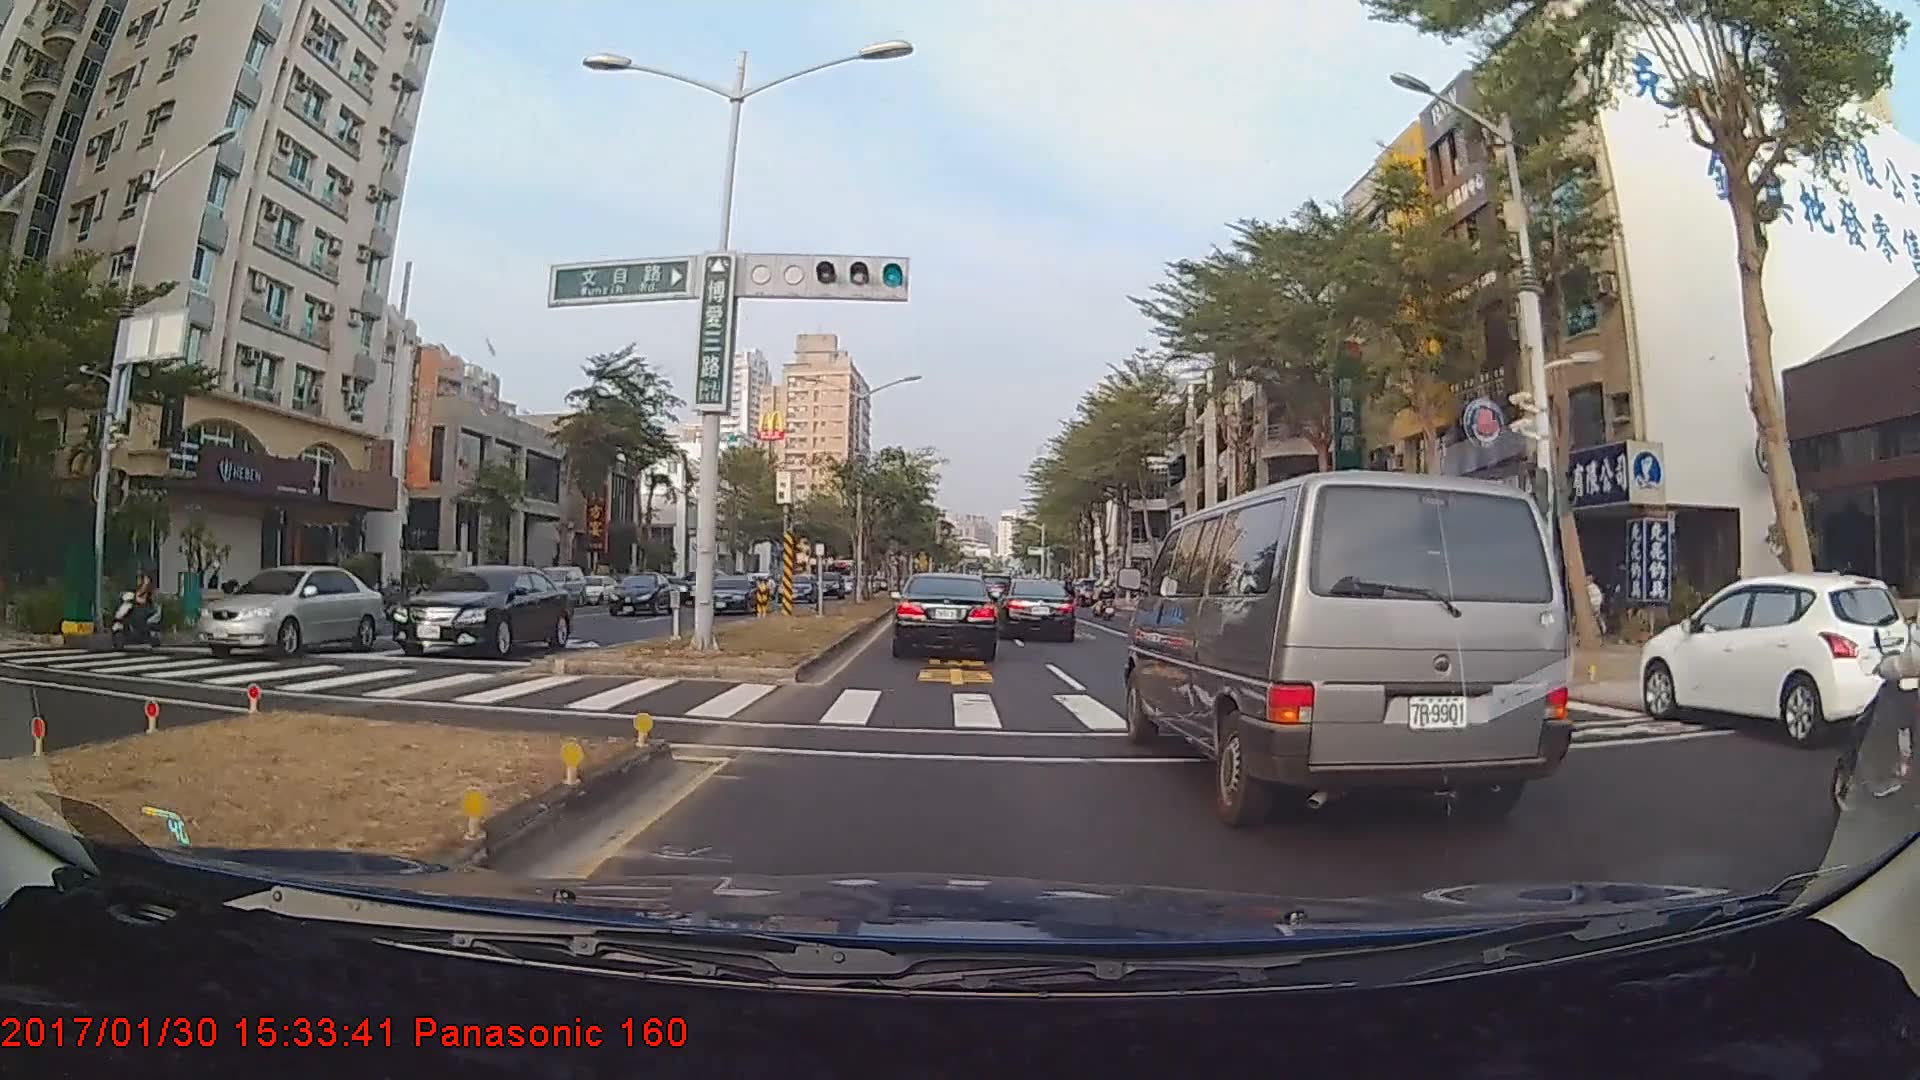rider: (1818, 555, 1920, 819), (103, 569, 173, 652)
vehicle: (1131, 458, 1577, 824), (1638, 570, 1918, 747), (193, 563, 382, 659), (387, 563, 576, 657), (894, 572, 999, 662), (1001, 577, 1076, 643), (605, 569, 672, 617), (529, 564, 585, 607), (700, 573, 757, 613), (776, 573, 816, 603)
